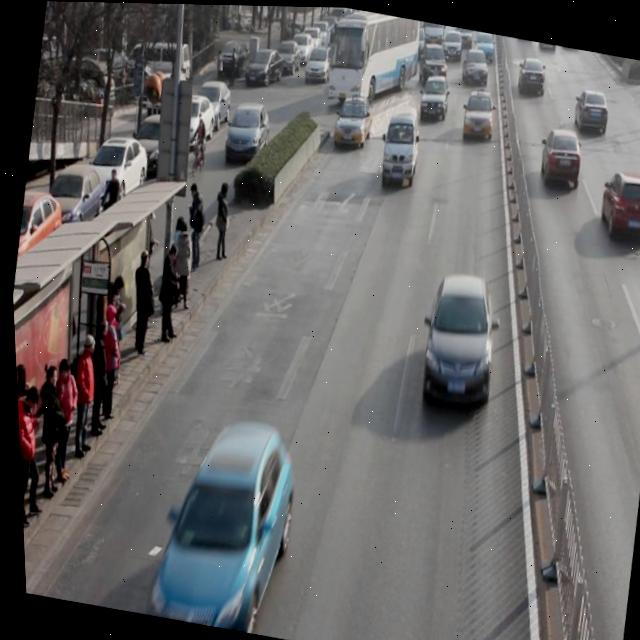car: (137, 403, 307, 638), (412, 268, 505, 410), (593, 164, 640, 247), (535, 122, 586, 189), (332, 93, 375, 148), (458, 87, 498, 143), (570, 84, 611, 137), (416, 72, 453, 122), (415, 39, 451, 89), (515, 53, 549, 99), (459, 44, 493, 90)
truck: (376, 101, 426, 187)
van: (320, 6, 425, 117)
